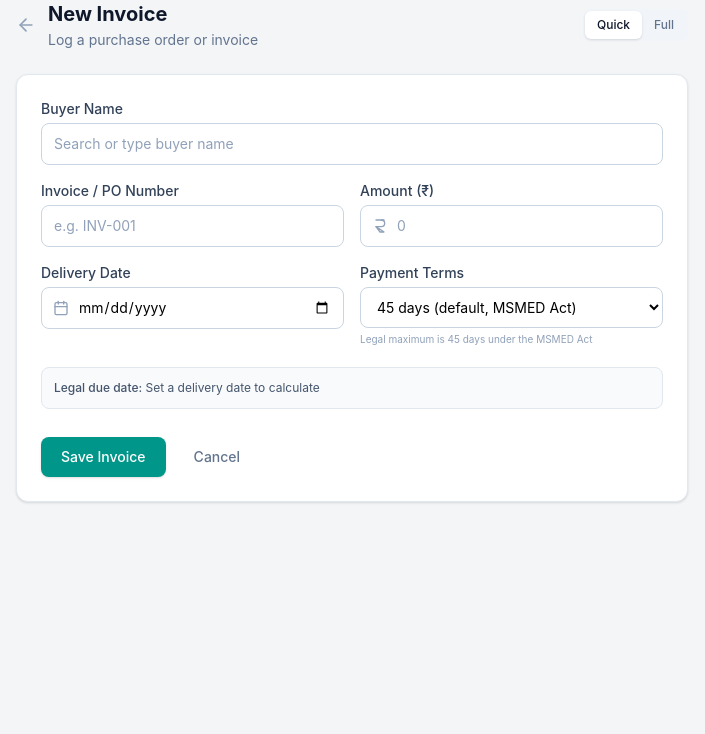
Test: AddInvoice - Declaration › requires acknowledgment before saving in Full Mode
The image size is (705, 734).
Click the button "Full": (664, 25) [642,11,686,39]
(page scrolled)
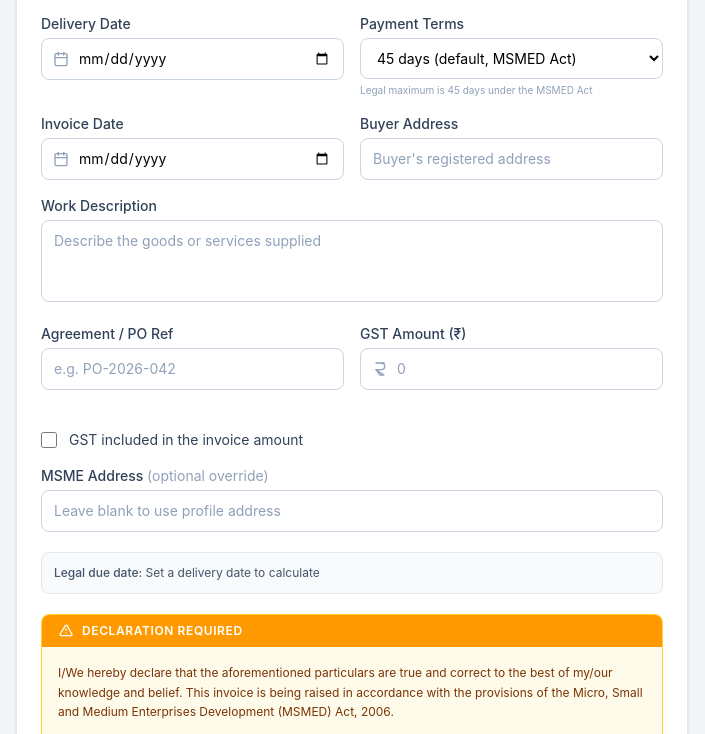
Check: the text "Declaration Required" is shown, box [82,623,243,639]
Submit the form named "Save Invoice"
(page scrolled)
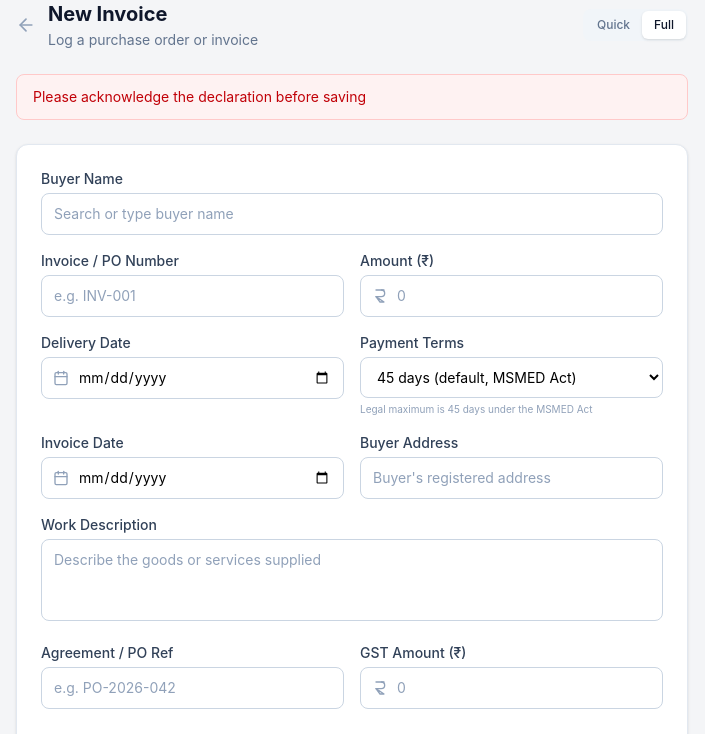
Check: the text "Please acknowledge the declaration before saving" is shown, box [33,88,366,105]
